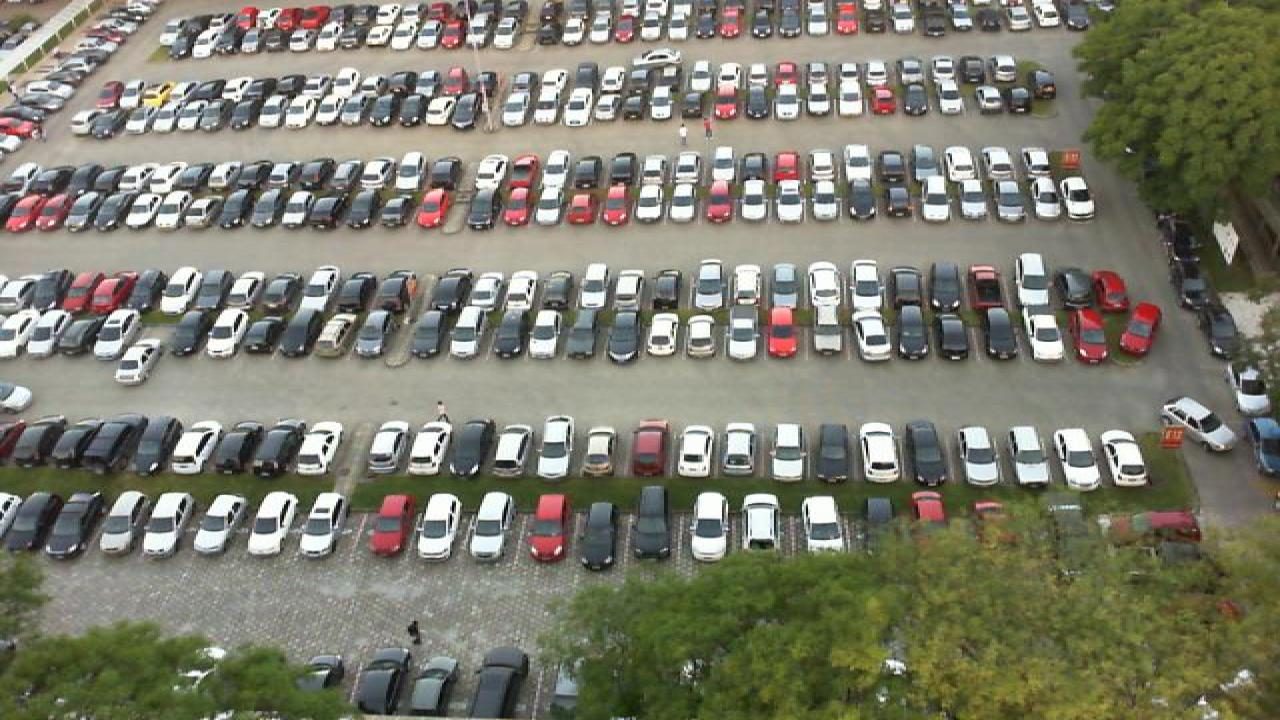Car: (468, 646, 530, 720), (1160, 395, 1238, 453), (38, 488, 100, 559), (92, 487, 152, 558), (294, 487, 352, 559), (188, 489, 248, 558), (138, 487, 198, 556), (244, 488, 302, 558), (352, 646, 410, 716), (406, 648, 462, 720), (734, 490, 788, 558), (522, 491, 572, 564), (902, 417, 952, 488), (686, 489, 734, 562), (414, 490, 464, 560), (576, 500, 624, 572), (360, 492, 412, 558), (956, 424, 1010, 487), (0, 487, 50, 555), (630, 484, 674, 561), (166, 419, 224, 477), (1098, 426, 1152, 488), (796, 493, 848, 557), (854, 421, 904, 487), (1006, 424, 1056, 489), (470, 488, 516, 558), (1054, 426, 1102, 493), (402, 416, 454, 477), (296, 418, 348, 478), (446, 415, 494, 478), (254, 420, 306, 478), (360, 417, 410, 476), (218, 419, 268, 477), (720, 422, 768, 482), (810, 420, 854, 484), (672, 420, 718, 480), (536, 413, 576, 480), (626, 418, 670, 478), (768, 420, 808, 483), (492, 421, 534, 478), (578, 424, 620, 478)
